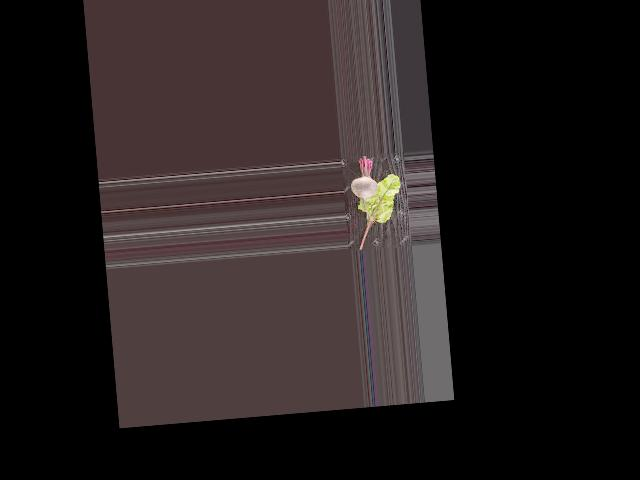beet: (348, 154, 380, 223)
